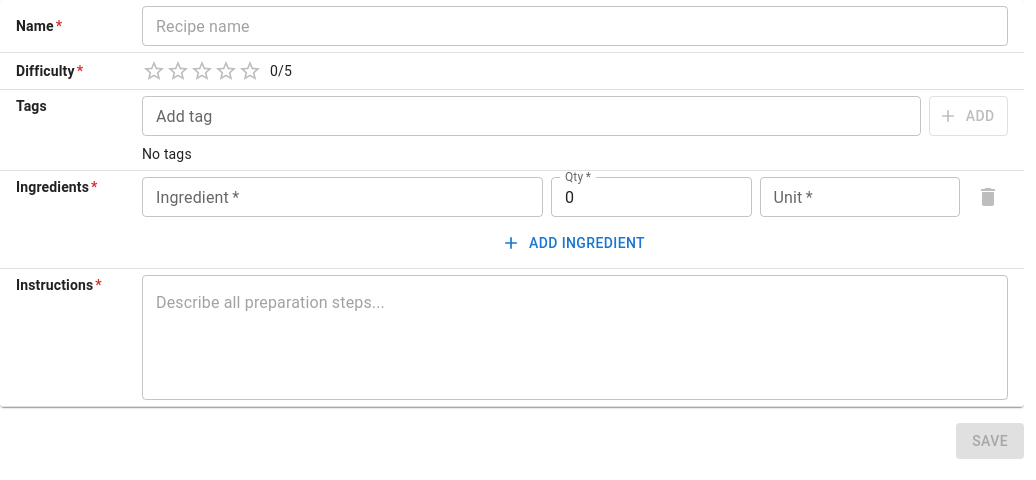
Scenario: RecipeForm › tag management › adds a tag when Add button is clicked
The width and height of the screenshot is (1036, 480).
In the field with placeholder "e.g. vegan": (531, 116) [142,96,920,136], type "vegan"
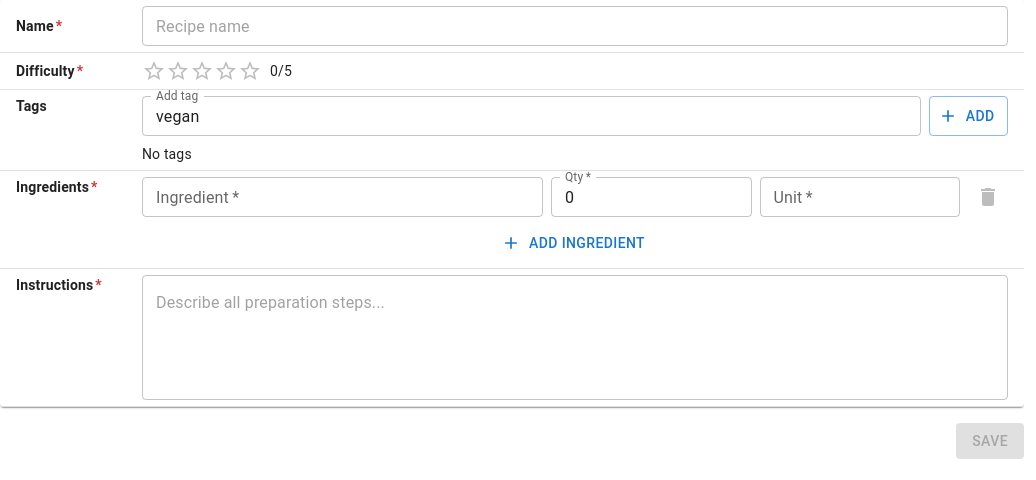
Click the button "Add": (968, 116) [928,96,1008,136]
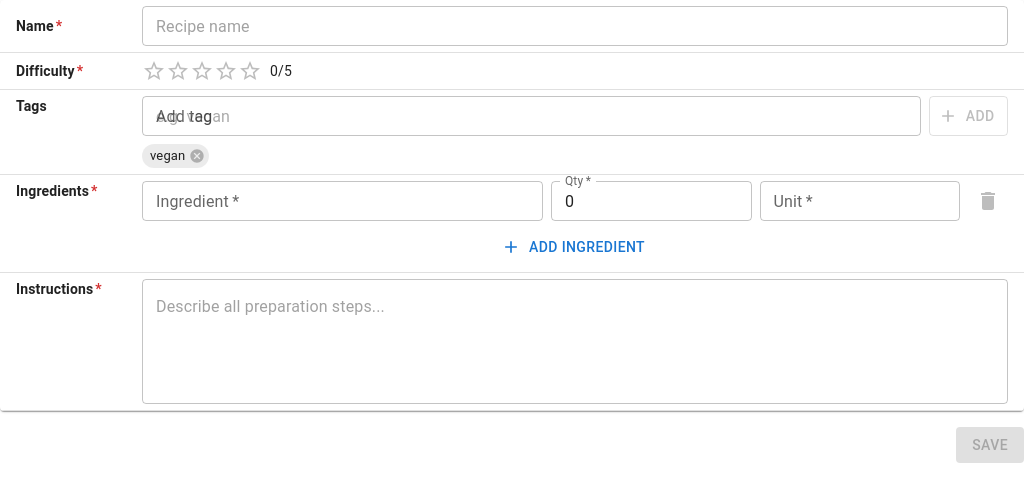
Expected: the text "vegan" is shown, [150,148,185,163]
